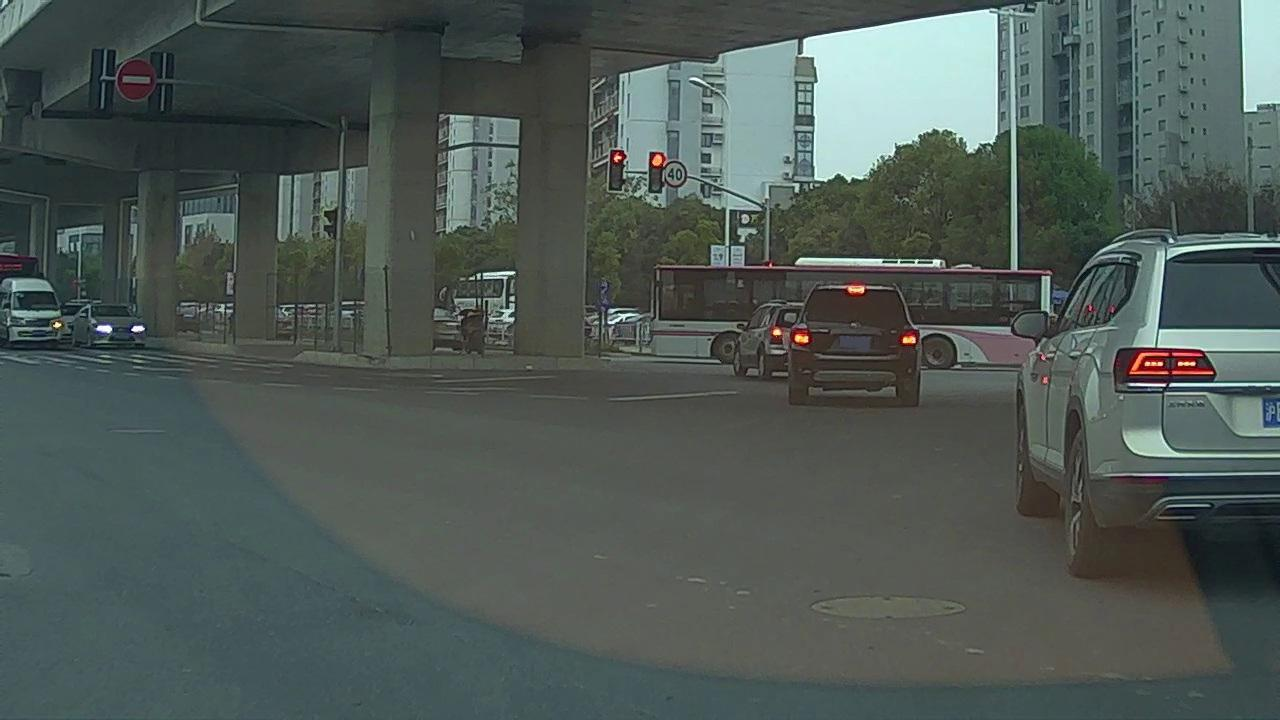traffic_light: (611, 149, 623, 191), (651, 152, 661, 190)
